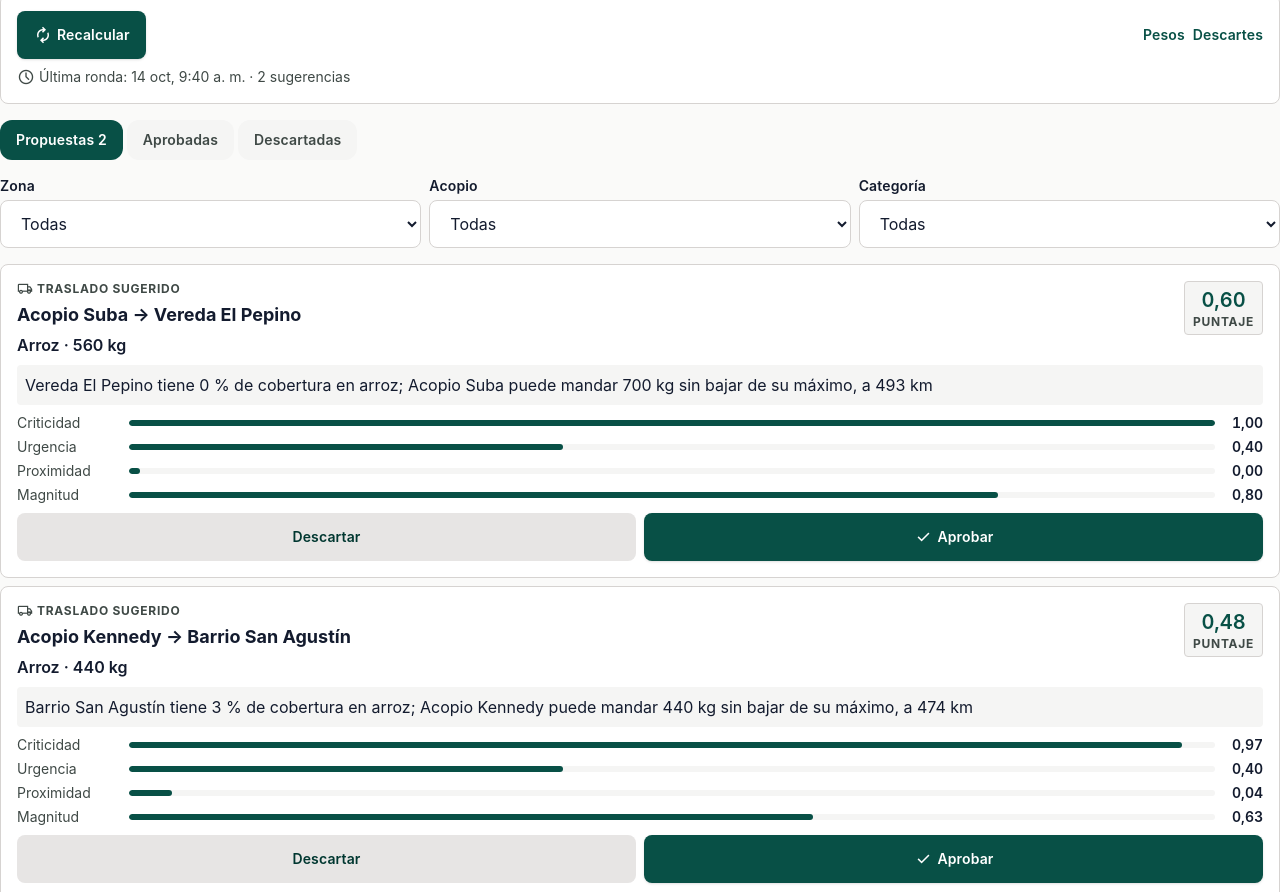
al descartar algo que otra persona ya decidió, cierra la hoja y recarga
(page scrolled)
Expected: the text "Vereda El Pepino tiene 0 %" is shown, [25,375,933,395]
Click the 2nd button "Descartar" at x=326, y=859, box [17,835,636,883]
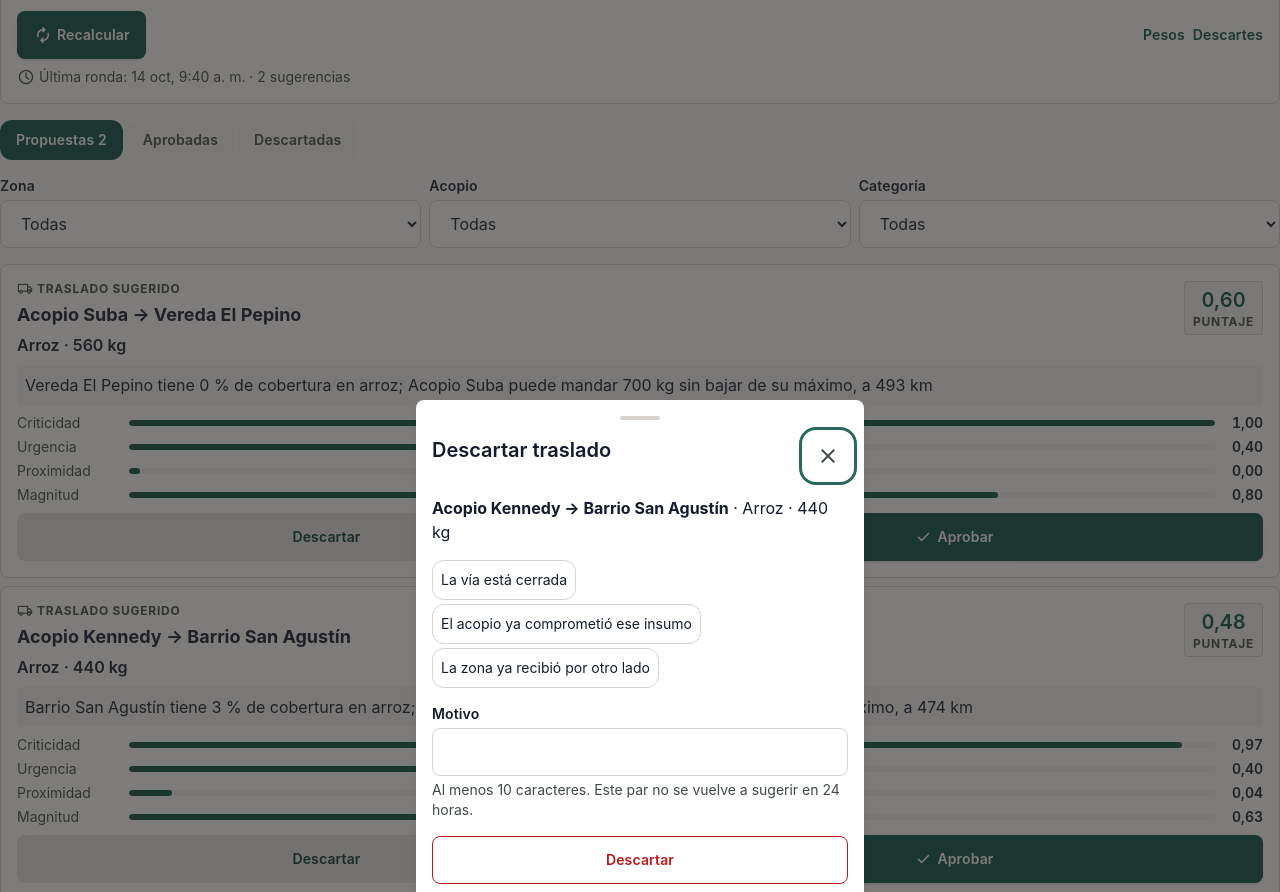
Click the button "La vía está cerrada" at x=504, y=580, box [432,560,576,600]
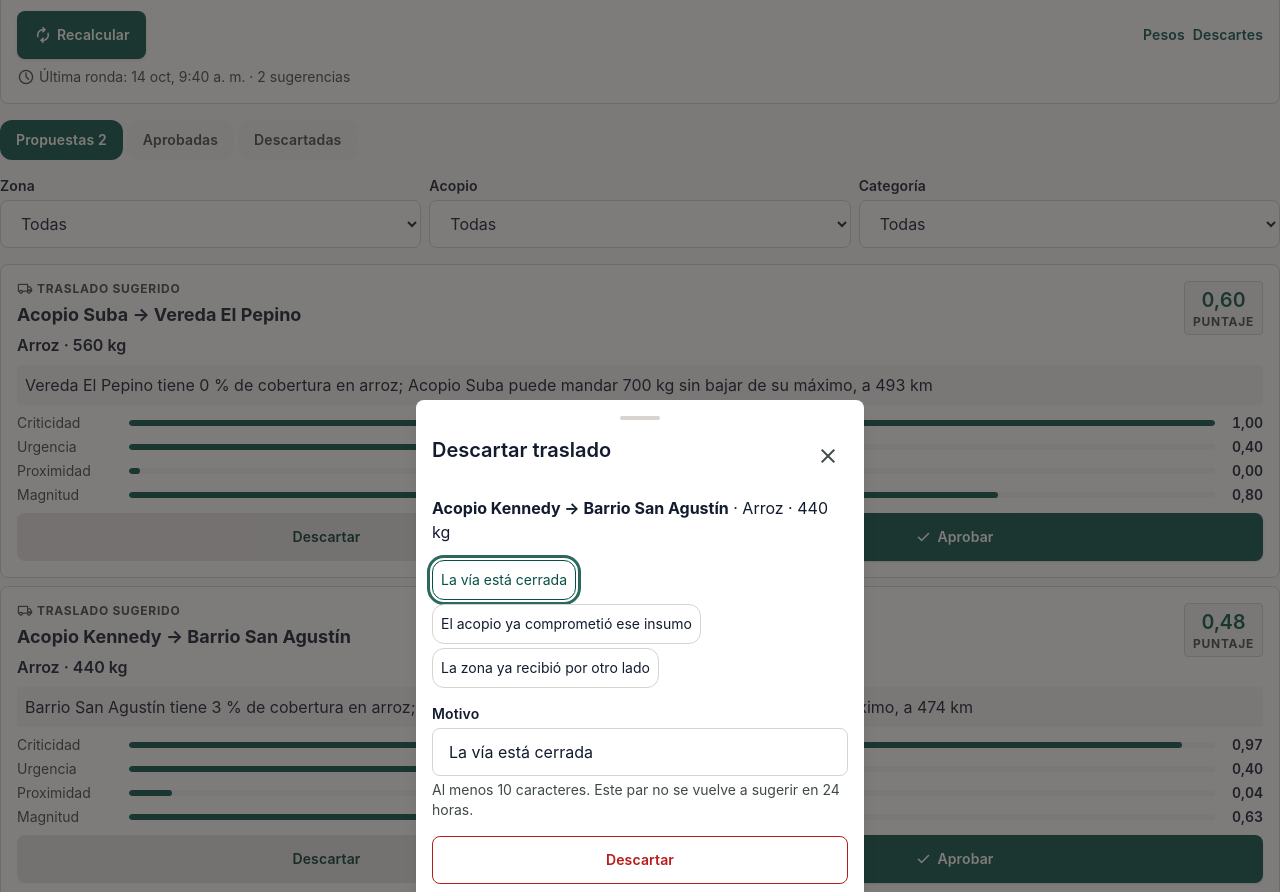
Click the button "Descartar" at x=640, y=860, box [432,836,848,884]
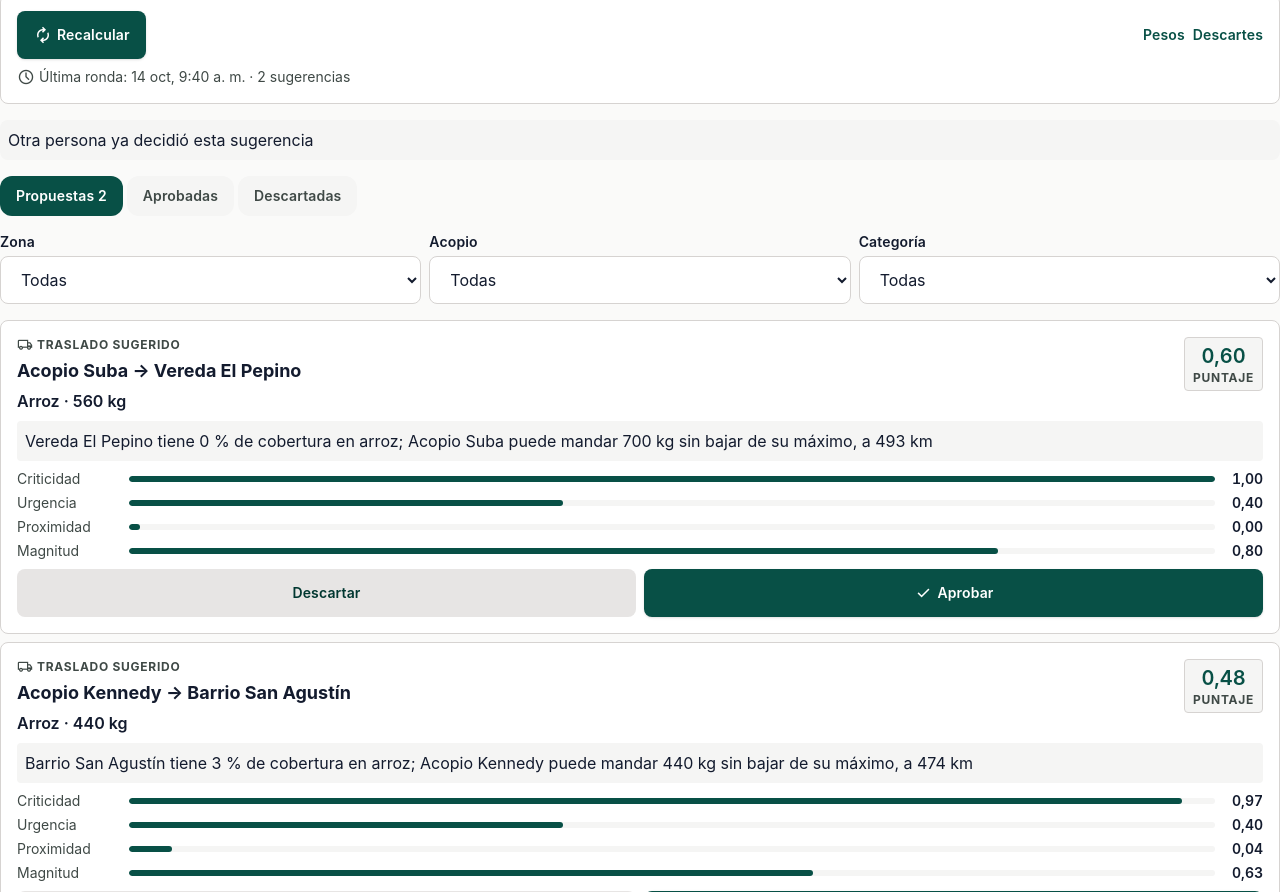
Now the text "Otra persona ya decidió esta sugerencia" is shown, box [0,120,1279,160]
